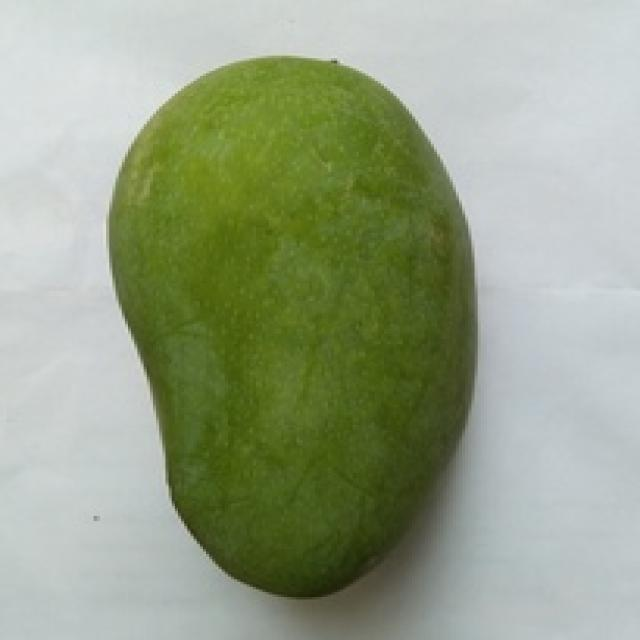Mango: (112, 58, 475, 594)
